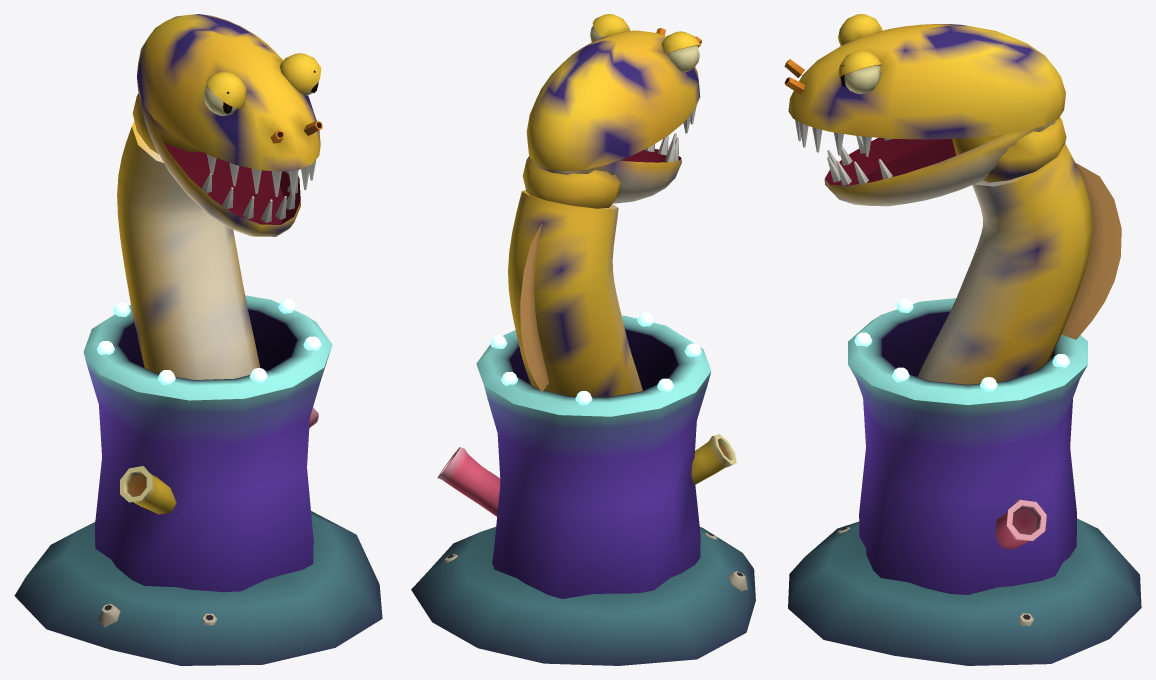
File: plant_underwater.glb
3 views of the same model, side by side, from view 1: azimuth 30°, elevation 25°; view 2: azimuth 150°, elevation 25°; view 3: azimuth 270°, elevation 25° (orthographic). The views are drawn at different scales.
Visible parts, largest first — view 1: base, head, stem, jaw; view 2: base, head, stem, jaw; view 3: base, head, stem, jaw.
Part boxes in pixels (box(x1,y1,x2,y2)): base: box(14, 295, 382, 665); head: box(132, 14, 322, 196); stem: box(117, 121, 260, 379); jaw: box(141, 102, 300, 236); base: box(411, 312, 755, 665); head: box(522, 14, 701, 208); stem: box(508, 190, 642, 397); jaw: box(530, 133, 681, 203); base: box(788, 298, 1141, 665); head: box(784, 14, 1066, 182); stem: box(918, 143, 1121, 384); jaw: box(824, 120, 1056, 206).
Bounding box in the file's own units: 0.88 × 1.51 × 0.8703.
